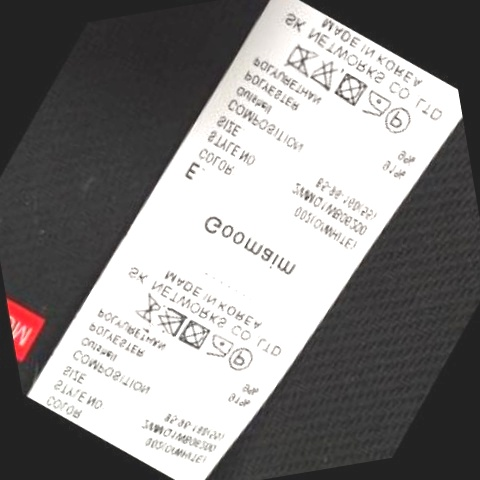DN_bleach: (308, 57, 339, 92), (155, 306, 187, 339)
DN_tumble_dry: (329, 67, 369, 110), (175, 318, 210, 353)
DN_wash: (283, 41, 318, 79), (129, 292, 162, 322)
dry_clean_any_solvent_except_trichloroethylene: (381, 105, 413, 137), (225, 344, 256, 374)
iron_low: (361, 89, 391, 119), (204, 332, 233, 359)
